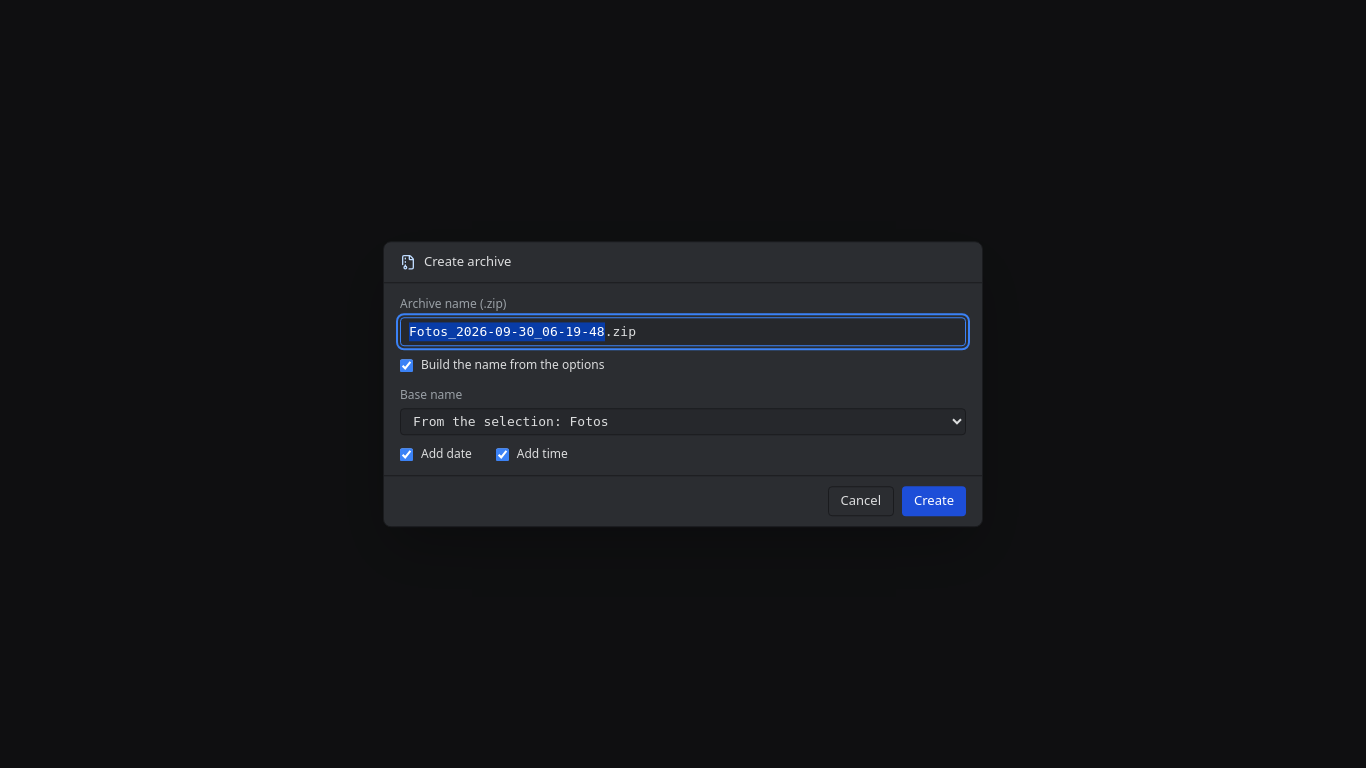
it: rebuilds the name when date, time or base change
The width and height of the screenshot is (1366, 768).
Click the checkbox labelled "Add date": (406, 454) x1=400 y1=448 x2=413 y2=461
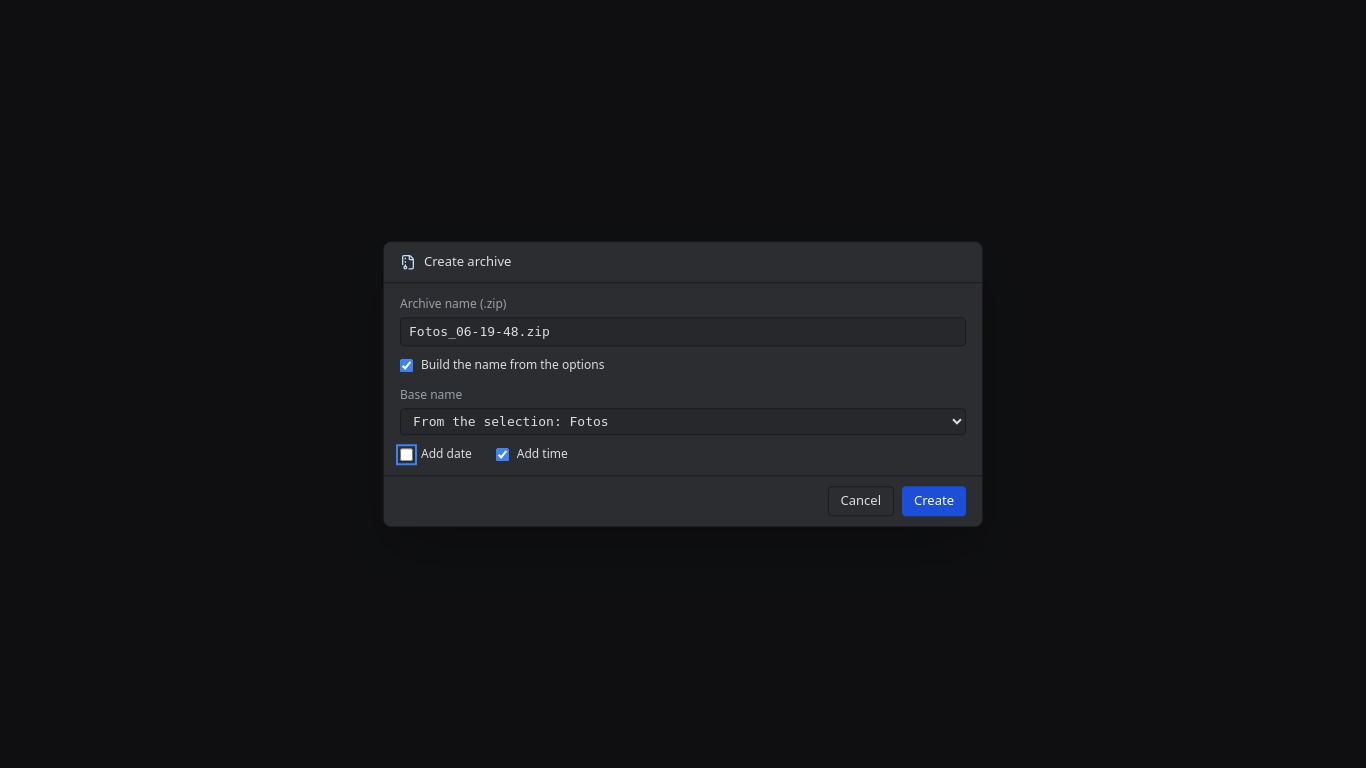
Click the checkbox labelled "Add time": (502, 454) x1=496 y1=448 x2=509 y2=461
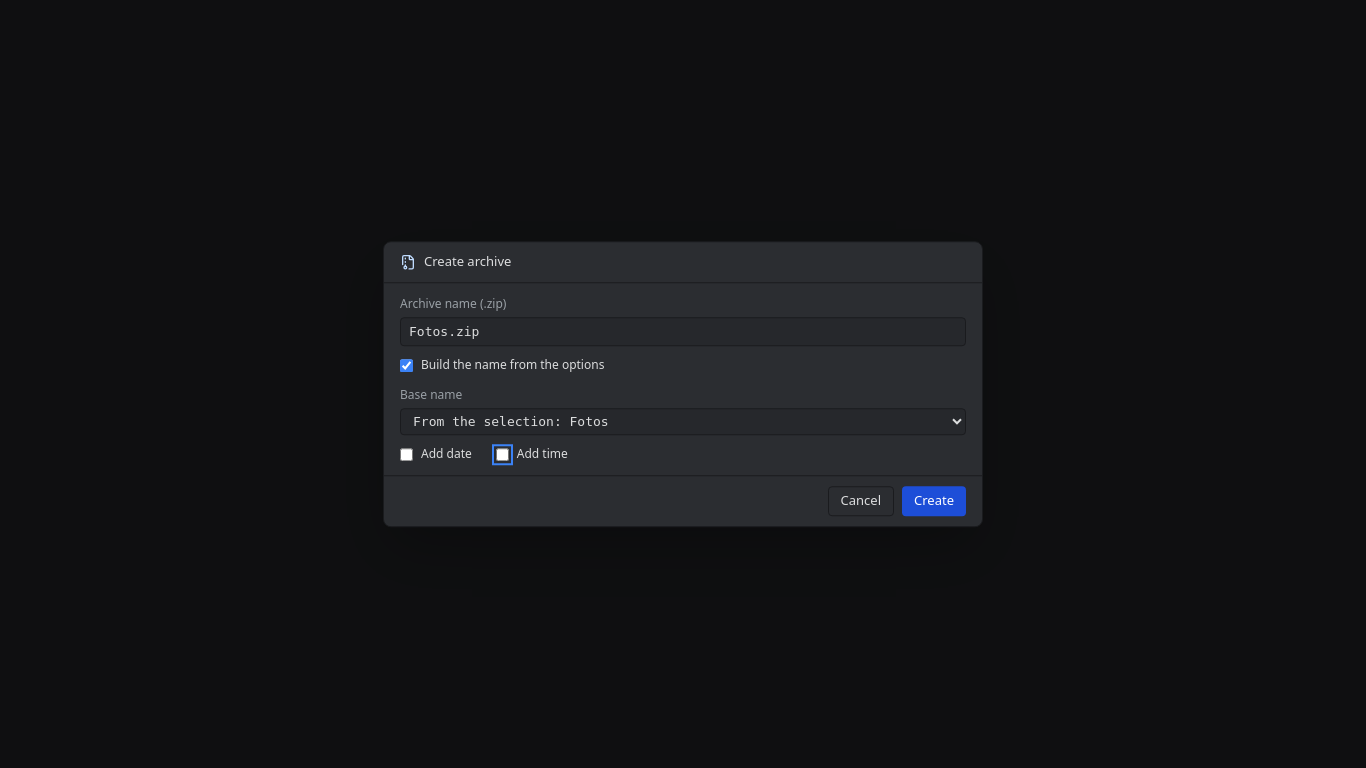
Expected: the field labelled "Archive name (.zip)" holds "Fotos.zip", x1=400 y1=317 x2=966 y2=346
Select "Generic: archiv" in the dropdown labelled "Base name": (683, 422) x1=400 y1=408 x2=966 y2=435
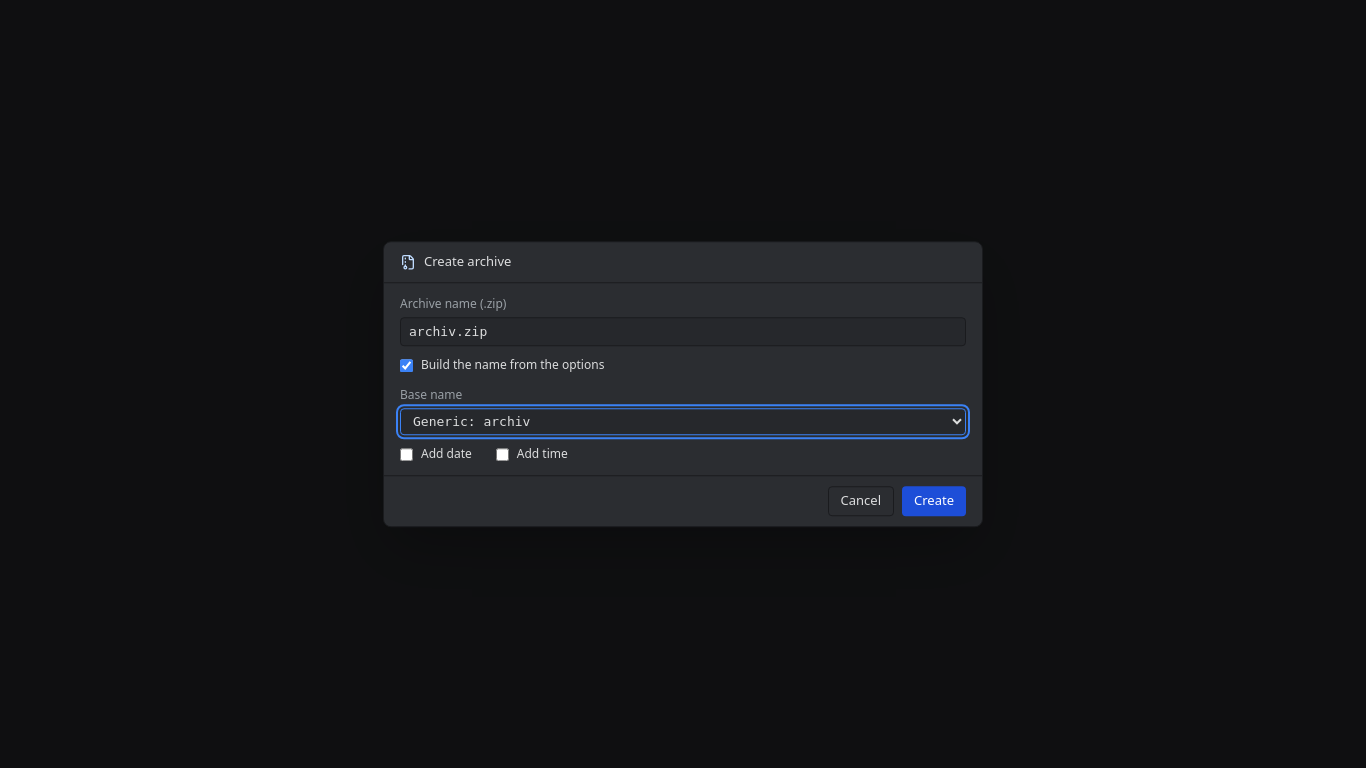
Expected: the field labelled "Archive name (.zip)" holds "archiv.zip", x1=400 y1=317 x2=966 y2=346
